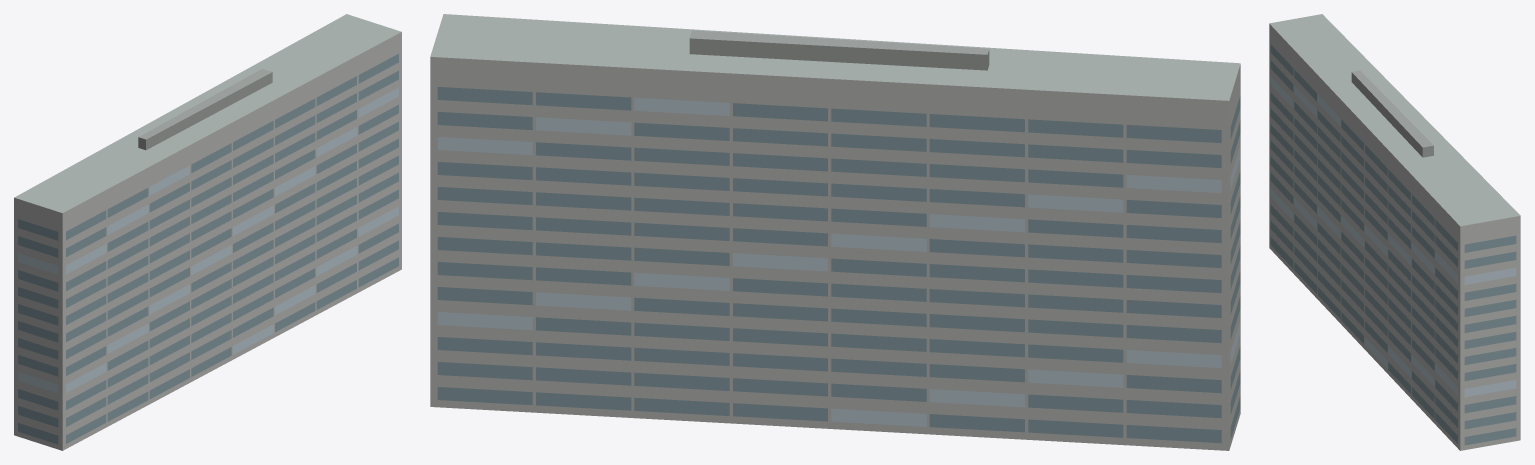
The model's file is fallback-daechi-eunma-6.glb.
The picture shows the model from 3 angles, left to right: view 1: azimuth 30°, elevation 25°; view 2: azimuth 150°, elevation 25°; view 3: azimuth 270°, elevation 25°; orthographic projection. The views are drawn at different scales.
Visible parts, largest first — view 1: fallback-daechi-eunma-6; view 2: fallback-daechi-eunma-6; view 3: fallback-daechi-eunma-6.
Part boxes in pixels (left/top/right/bottom): fallback-daechi-eunma-6: left=14, top=14, right=401, bottom=450; fallback-daechi-eunma-6: left=430, top=14, right=1240, bottom=450; fallback-daechi-eunma-6: left=1269, top=14, right=1520, bottom=450.
Size of the model in its own units: 86.6 by 44.62 by 43.35.
